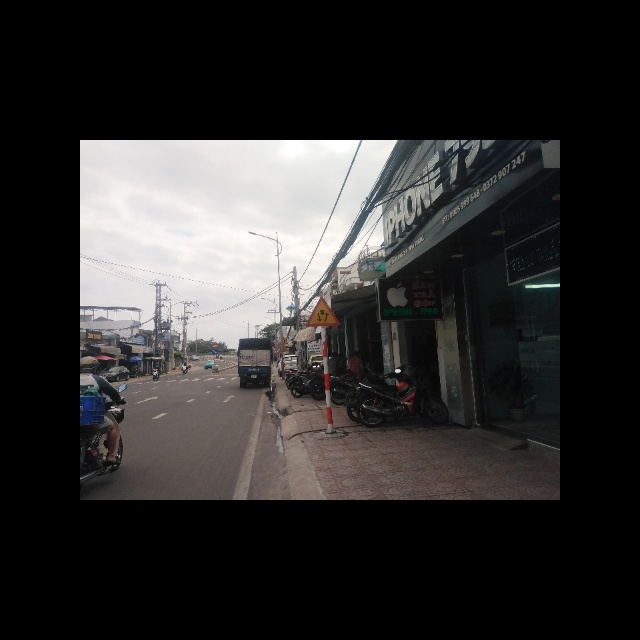Đường đôi: (307, 296, 340, 327)
